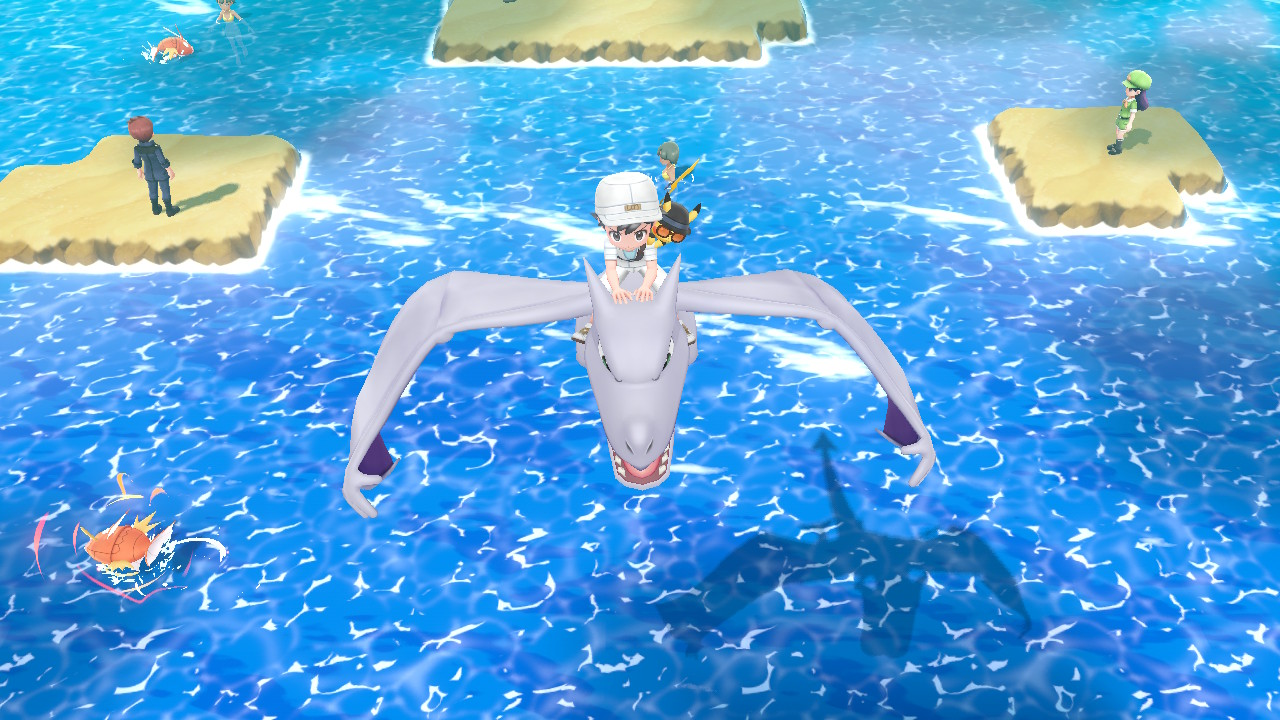Red: (73, 515, 180, 582), (138, 31, 198, 67)
